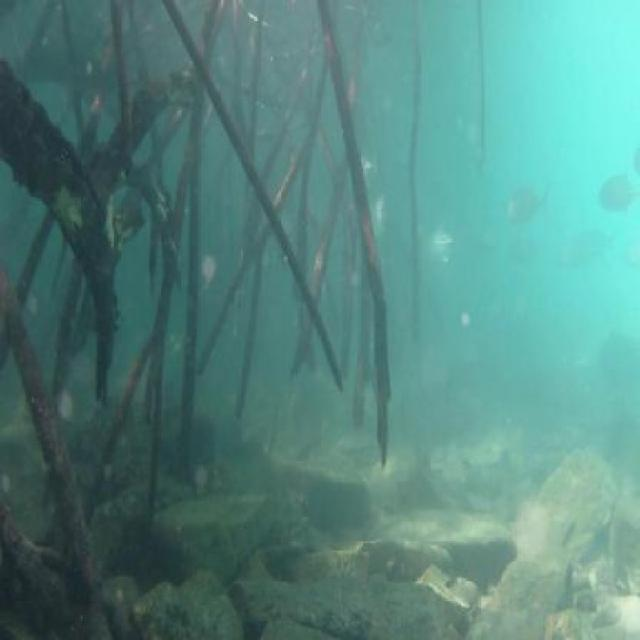Caranx_sexfasciatus_juvenile: (506, 181, 559, 236), (415, 222, 468, 276), (560, 229, 615, 280), (592, 162, 640, 218)
